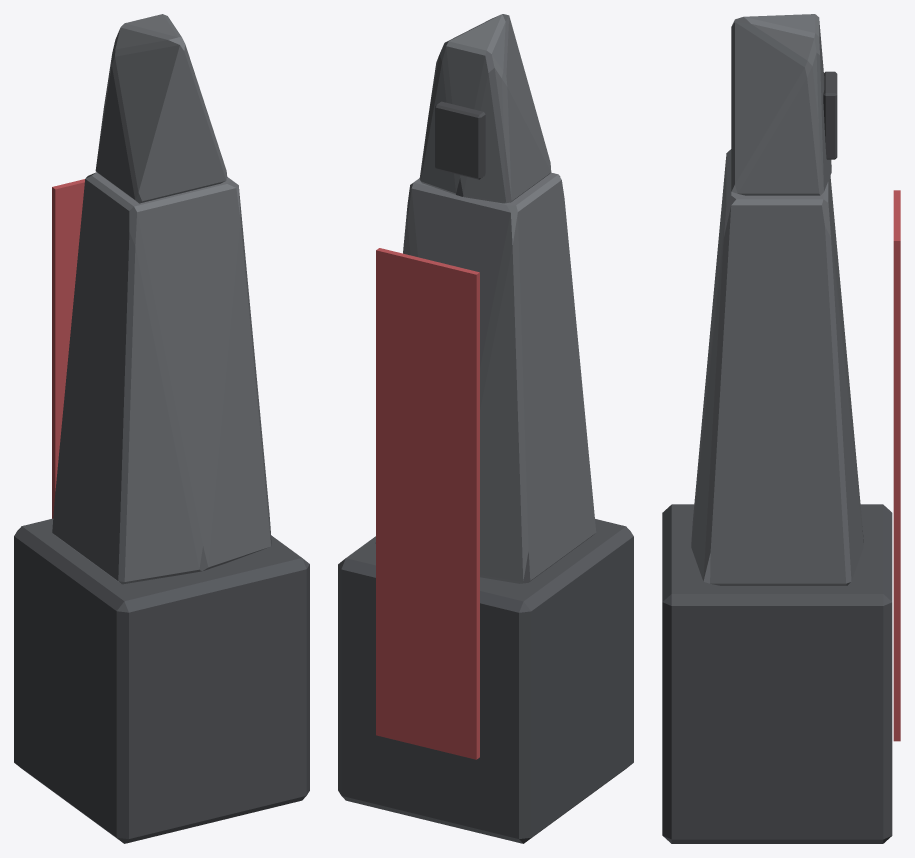
The model's file is heatsinkStatue.7ac4ef8a.glb.
The picture shows the model from 3 angles, left to right: view 1: azimuth 30°, elevation 25°; view 2: azimuth 150°, elevation 25°; view 3: azimuth 270°, elevation 25°; orthographic projection. The views are drawn at different scales.
Visible parts, largest first — view 1: statue; view 2: statue; view 3: statue.
Boxes of the visible parts, x1,y1,x2,y2 form: statue: (14, 14, 309, 843); statue: (338, 14, 633, 843); statue: (662, 14, 900, 843).
Bounding box in the file's own units: 5 × 18.77 × 5.17.
